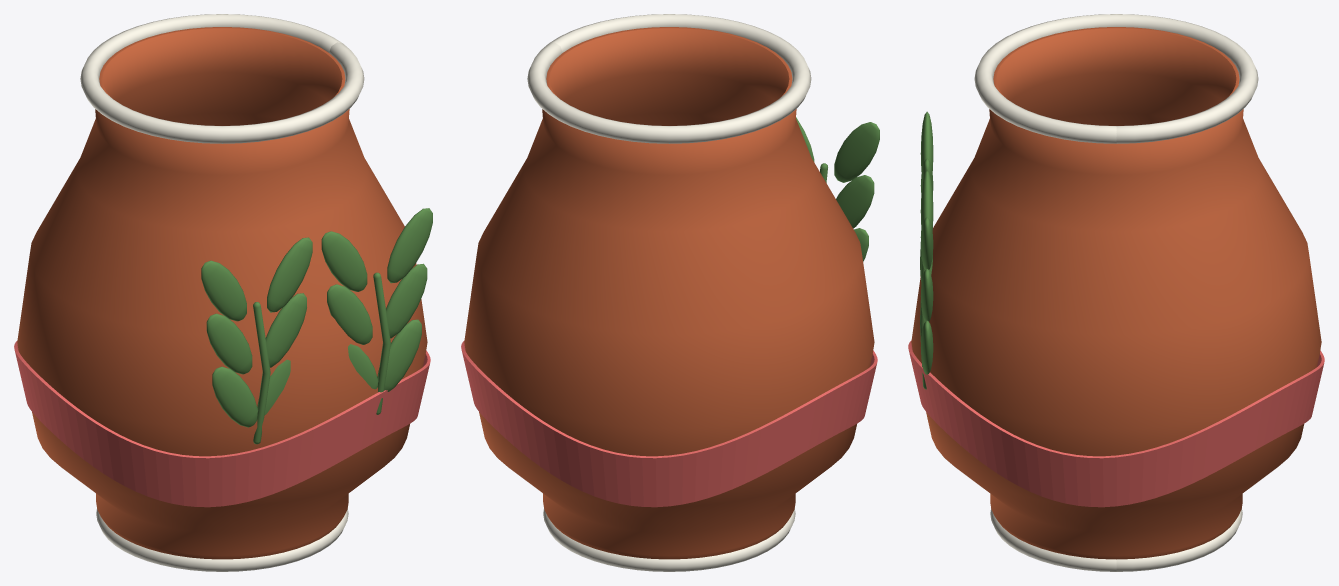
The model's file is vase_poppy.glb.
3 views of the same model, side by side, from view 1: azimuth 30°, elevation 25°; view 2: azimuth 150°, elevation 25°; view 3: azimuth 270°, elevation 25° (orthographic).
Visible parts, largest first — view 1: Terracotta_poppy_body, Wavy_coral_glaze, Cream_poppy_rim, Cream_poppy_foot, Relief_leaf.005, Relief_leaf.011, Relief_leaf.001, Relief_leaf.008, Relief_leaf, Relief_leaf.002, Relief_leaf.007, Relief_leaf.010 (+6 smaller); view 2: Terracotta_poppy_body, Wavy_coral_glaze, Cream_poppy_rim, Cream_poppy_foot, Relief_leaf.002, Relief_leaf.001; view 3: Terracotta_poppy_body, Wavy_coral_glaze, Cream_poppy_rim, Cream_poppy_foot, Relief_leaf.002, Relief_leaf.008, Relief_leaf.009, Relief_leaf.010, Relief_leaf.011.
Part boxes in pixels (left/top/right/bottom): Terracotta_poppy_body: left=17, top=27, right=427, bottom=559; Wavy_coral_glaze: left=14, top=341, right=430, bottom=507; Cream_poppy_rim: left=80, top=14, right=364, bottom=143; Cream_poppy_foot: left=96, top=508, right=348, bottom=571; Relief_leaf.005: left=267, top=237, right=312, bottom=312; Relief_leaf.011: left=387, top=208, right=432, bottom=283; Relief_leaf.001: left=206, top=313, right=252, bottom=374; Relief_leaf.008: left=321, top=231, right=367, bottom=291; Relief_leaf: left=212, top=366, right=257, bottom=427; Relief_leaf.002: left=201, top=260, right=246, bottom=321; Relief_leaf.007: left=327, top=284, right=372, bottom=344; Relief_leaf.010: left=386, top=263, right=427, bottom=338; Terracotta_poppy_body: left=464, top=27, right=874, bottom=559; Wavy_coral_glaze: left=461, top=341, right=877, bottom=507; Cream_poppy_rim: left=527, top=14, right=811, bottom=143; Cream_poppy_foot: left=543, top=508, right=795, bottom=571; Relief_leaf.002: left=834, top=122, right=879, bottom=182; Relief_leaf.001: left=836, top=175, right=874, bottom=228; Terracotta_poppy_body: left=911, top=27, right=1321, bottom=559; Wavy_coral_glaze: left=908, top=340, right=1324, bottom=507; Cream_poppy_rim: left=974, top=14, right=1258, bottom=143; Cream_poppy_foot: left=990, top=508, right=1242, bottom=571; Relief_leaf.002: left=920, top=111, right=933, bottom=171; Relief_leaf.008: left=920, top=170, right=933, bottom=230; Relief_leaf.009: left=920, top=320, right=933, bottom=374; Relief_leaf.010: left=920, top=269, right=933, bottom=321; Relief_leaf.011: left=920, top=217, right=933, bottom=269.
Bounding box in the file's own units: 0.132 × 0.16 × 0.132.
